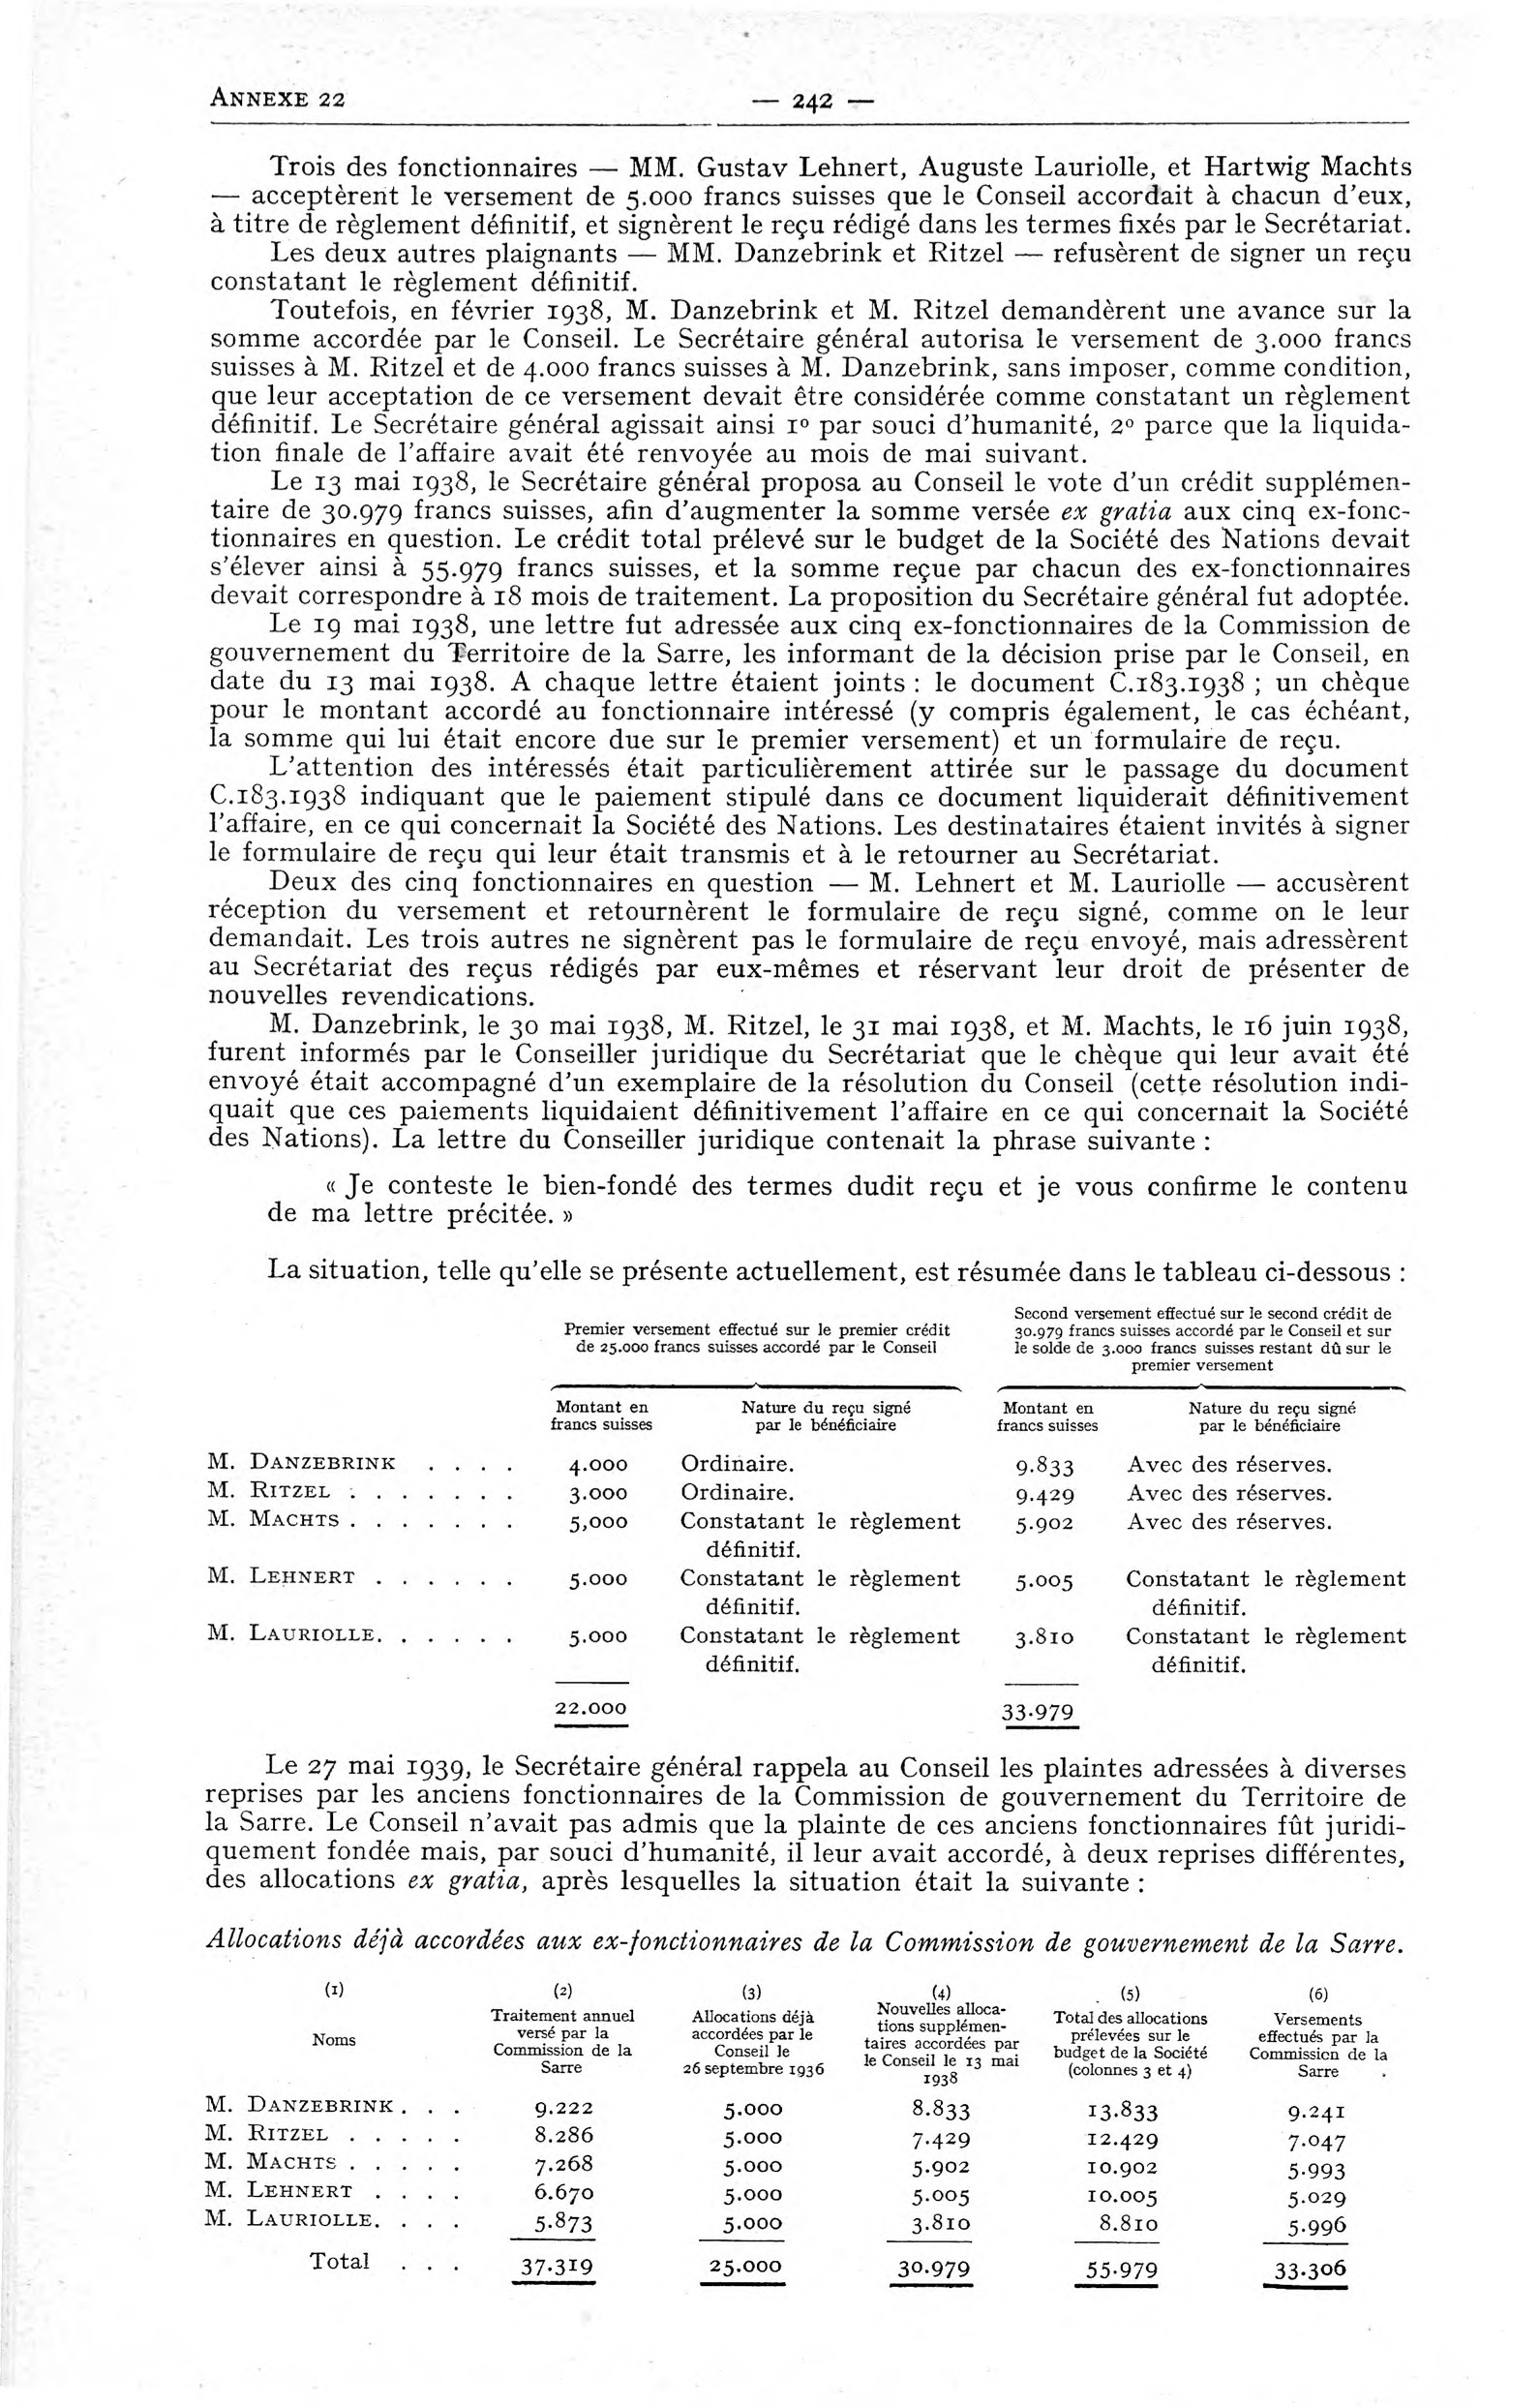GraphicZone-FigDesc: (189, 1918, 1410, 1961)
MainZone-P: (202, 295, 1422, 468), (191, 1746, 1415, 1903), (191, 1007, 1422, 1161), (196, 467, 1419, 612), (195, 867, 1419, 1009), (202, 612, 1417, 749), (195, 753, 1421, 870), (196, 140, 1419, 239), (233, 1165, 1419, 1239), (200, 235, 1421, 295), (233, 1247, 1419, 1295)
NumberingZone: (751, 86, 879, 119)
RunningTitleZone: (203, 79, 354, 118)
TableZone: (198, 1293, 1419, 1739), (184, 1916, 1414, 2307)
